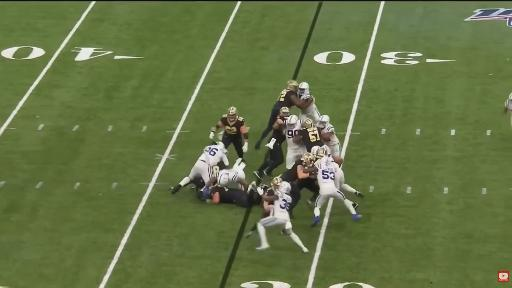Helmet: (271, 176, 283, 191), (303, 153, 315, 166), (317, 115, 329, 127), (279, 182, 291, 194), (227, 107, 237, 121), (287, 115, 298, 127), (316, 146, 329, 156), (302, 118, 313, 129), (218, 174, 229, 185), (298, 83, 308, 94), (280, 107, 290, 118), (288, 80, 298, 91), (311, 146, 319, 154), (314, 157, 322, 165), (216, 142, 225, 149), (322, 145, 329, 152), (260, 184, 269, 189)
Jersey: (316, 158, 336, 189), (298, 127, 323, 151), (281, 160, 306, 182), (199, 145, 226, 165), (220, 115, 245, 136), (274, 191, 291, 221), (285, 122, 303, 150), (274, 89, 297, 109), (218, 187, 246, 203), (322, 124, 339, 146), (216, 169, 239, 184), (270, 129, 285, 145), (300, 91, 314, 105), (505, 94, 511, 110)
Player: (257, 182, 308, 252), (308, 160, 361, 226), (255, 80, 305, 149), (171, 142, 228, 194), (254, 107, 289, 183), (316, 146, 364, 197), (281, 153, 315, 214), (210, 107, 248, 158), (204, 159, 248, 194), (283, 115, 306, 168), (206, 186, 262, 207), (293, 119, 323, 151), (317, 115, 340, 156), (298, 83, 320, 122), (256, 177, 282, 197), (504, 94, 511, 126)
